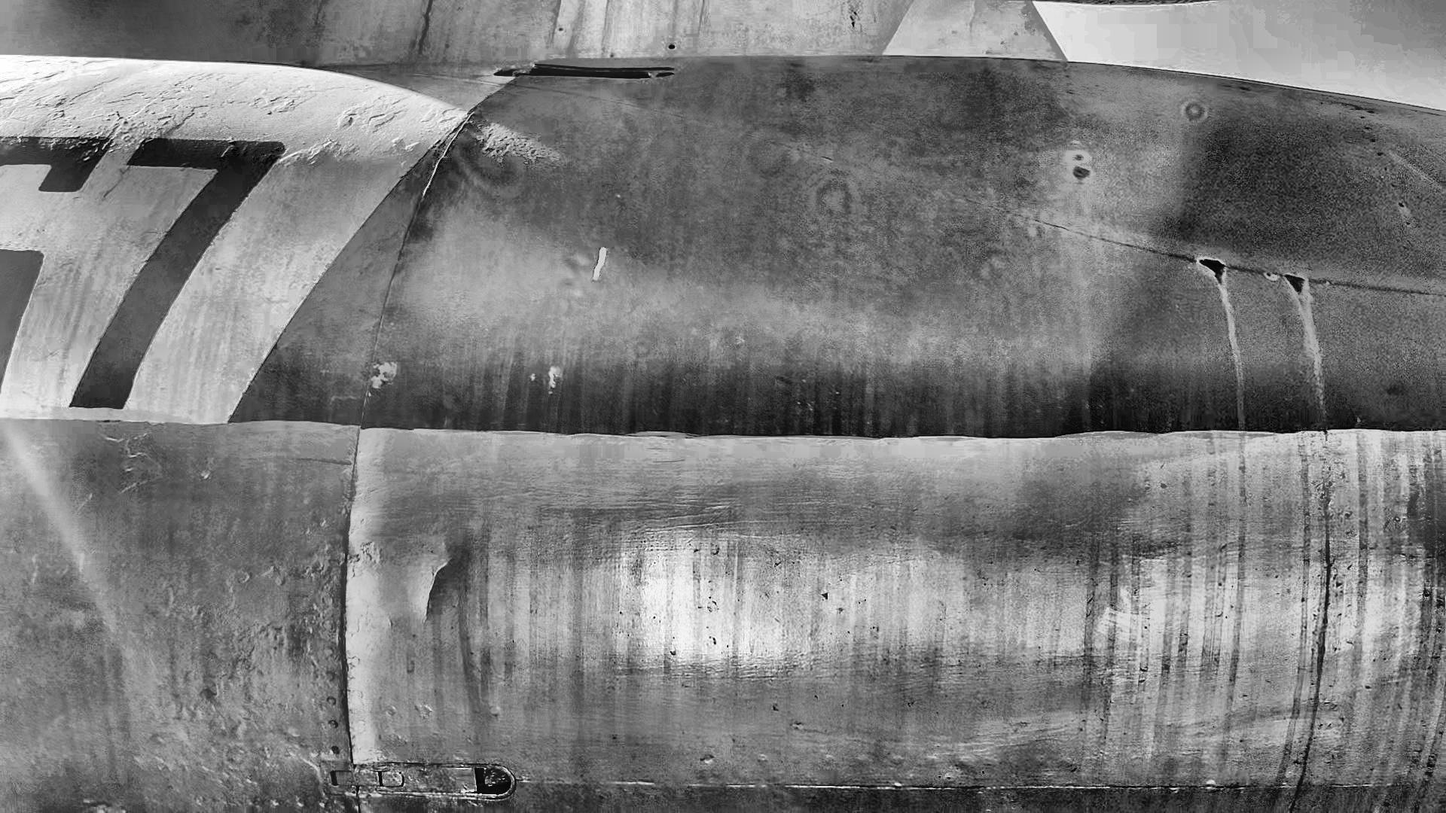crack: (418, 0, 432, 53)
missing-head: (557, 27, 564, 33), (609, 54, 615, 58)
paint-peel-off: (1197, 258, 1227, 286), (372, 363, 397, 389), (1284, 274, 1307, 294), (547, 365, 562, 388), (1073, 166, 1093, 180), (1070, 153, 1087, 163), (849, 15, 857, 29), (848, 8, 859, 14)
scratch: (426, 561, 447, 617), (297, 453, 351, 467)
